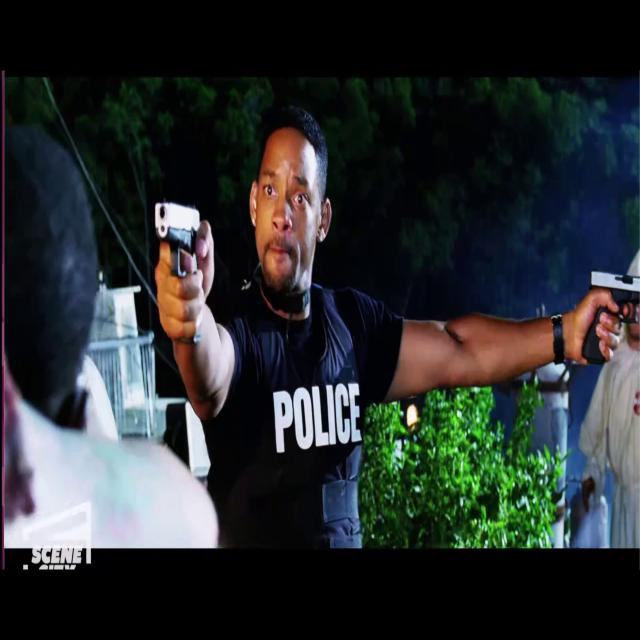weapons: (148, 182, 217, 351)
